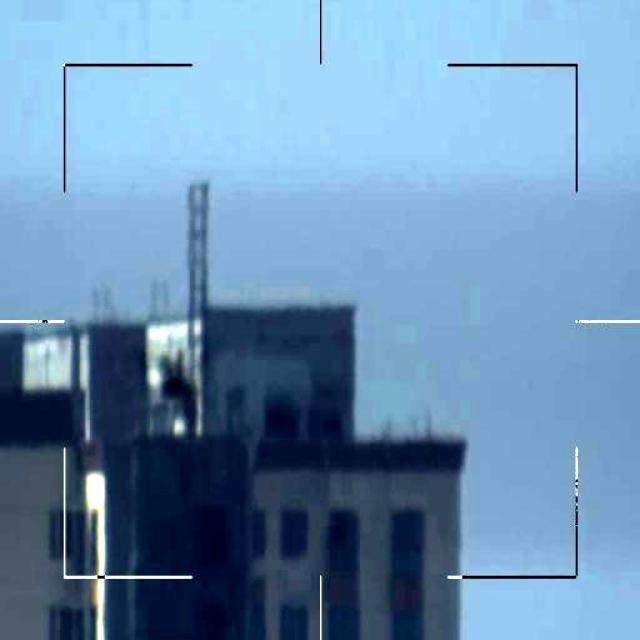bird: (145, 348, 214, 438)
